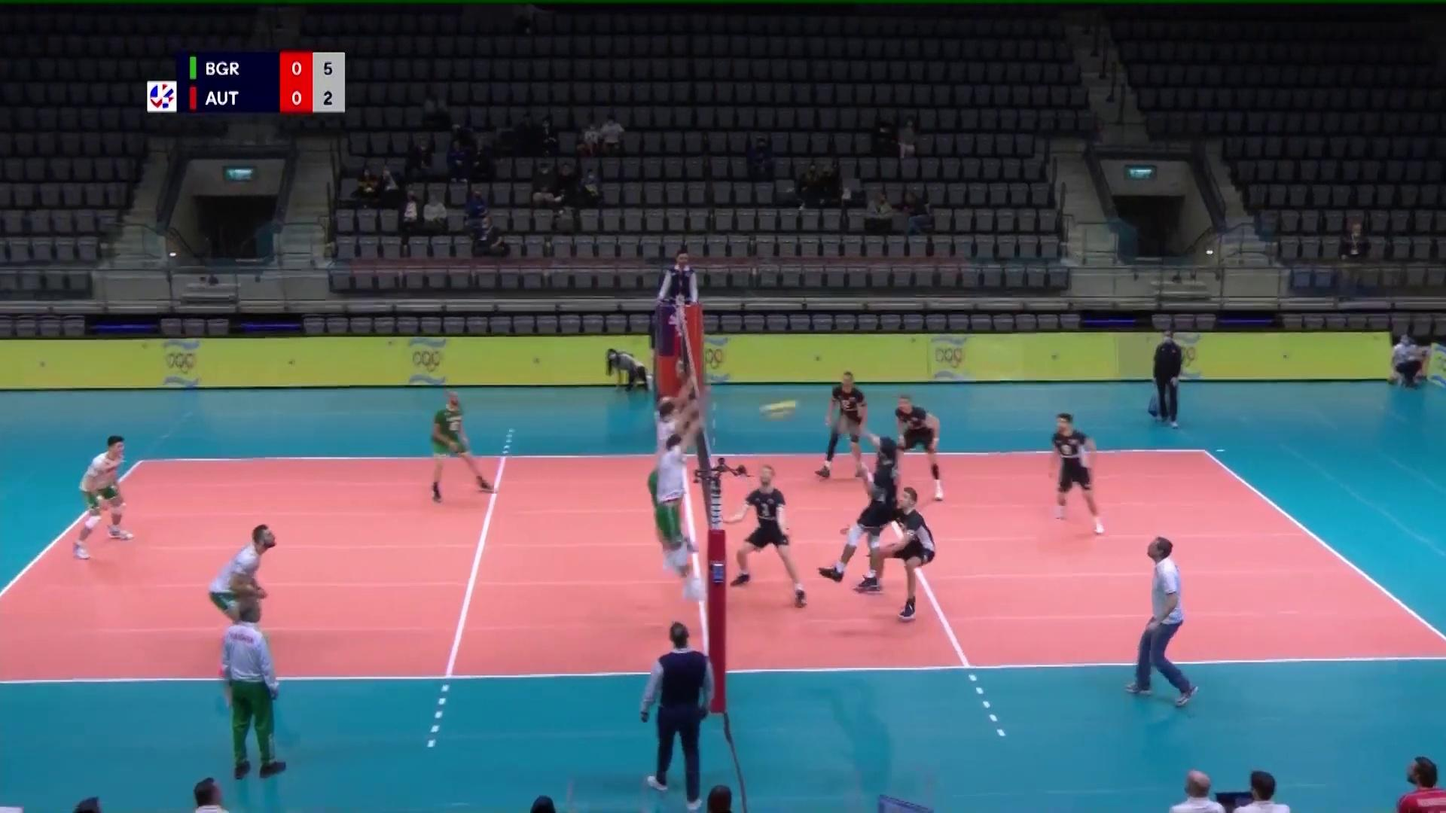ball: (764, 402, 796, 420)
